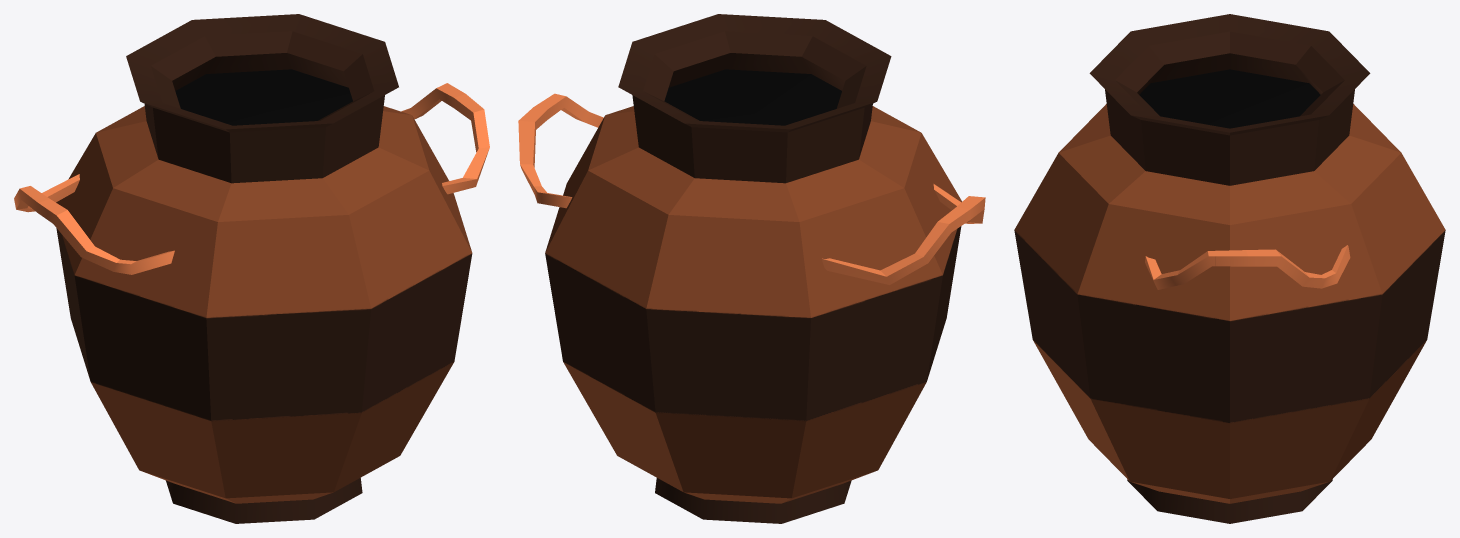
Rendered from Broken Pot.fbx.
The picture shows the model from 3 angles, left to right: view 1: azimuth 30°, elevation 25°; view 2: azimuth 150°, elevation 25°; view 3: azimuth 270°, elevation 25°; orthographic projection.
Visible parts, largest first — view 1: Object001, Cylinder004, Object002; view 2: Object001, Cylinder004, Object002; view 3: Cylinder004, Object001, Object002.
Boxes of the visible parts, x1,y1,x2,y2 form: Object001: (14,14,425,333); Cylinder004: (56,83,489,454); Object002: (101,400,415,523); Object001: (592,14,985,333); Cylinder004: (518,93,961,454); Object002: (602,400,916,523); Cylinder004: (1014,193,1445,482); Object001: (1035,14,1424,202); Object002: (1062,393,1397,523).
Bounding box in the file's own units: 18.76 × 16.99 × 16.32.
